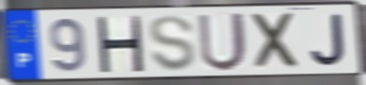9: (47, 15, 89, 75)
H: (94, 15, 146, 74)
J: (309, 11, 348, 68)
S: (147, 13, 198, 73)
U: (196, 10, 249, 74)
X: (249, 11, 303, 72)
